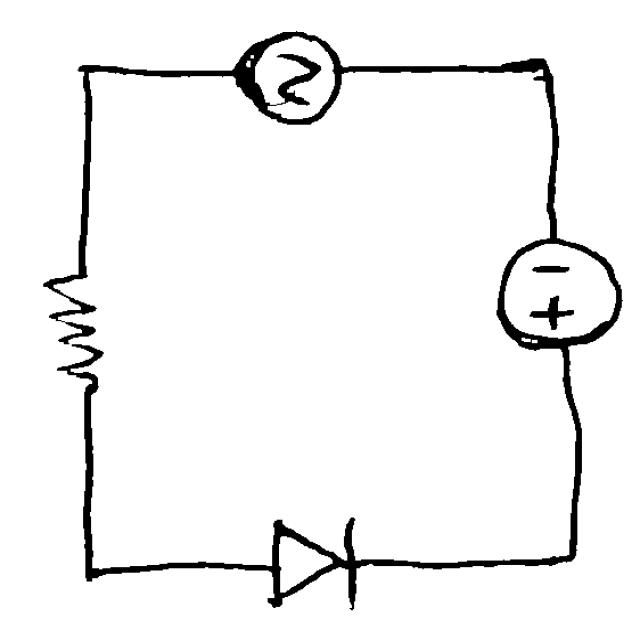ac: (228, 21, 349, 135)
dc: (487, 223, 622, 355)
diode: (237, 497, 379, 620)
resistor: (27, 257, 123, 411)
